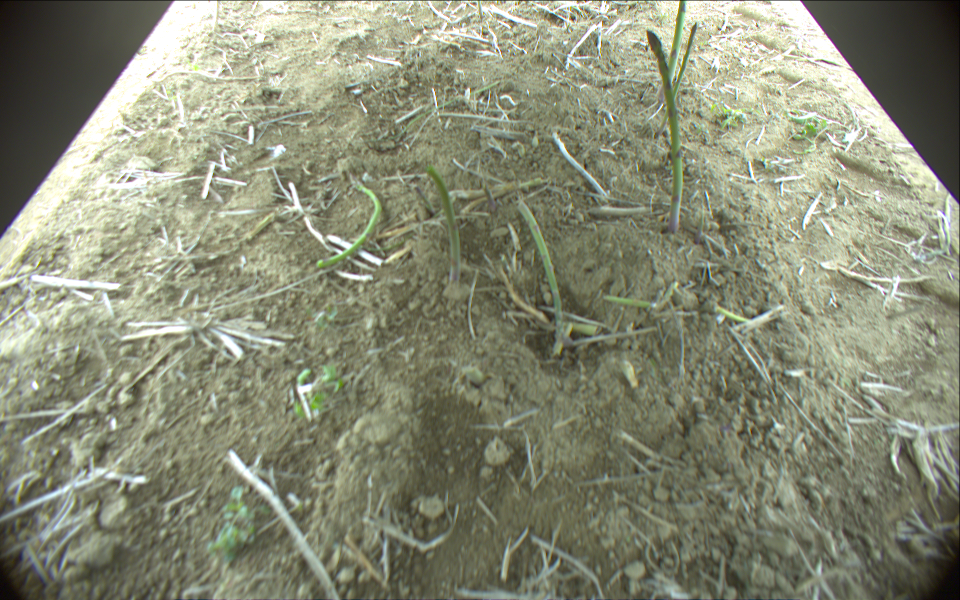aspa: (514, 200, 569, 354), (645, 28, 684, 232), (317, 177, 381, 272), (655, 22, 697, 142), (428, 166, 457, 280), (657, 1, 687, 106)
